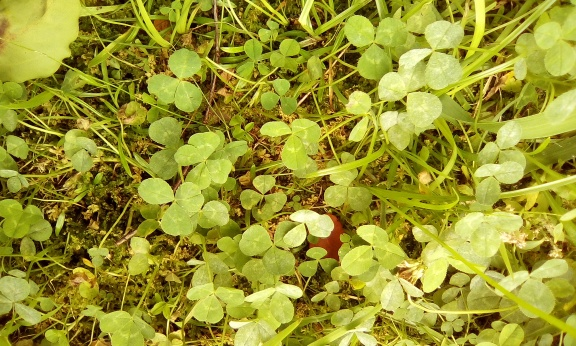4leaf: (174, 131, 232, 190), (63, 129, 98, 175)
